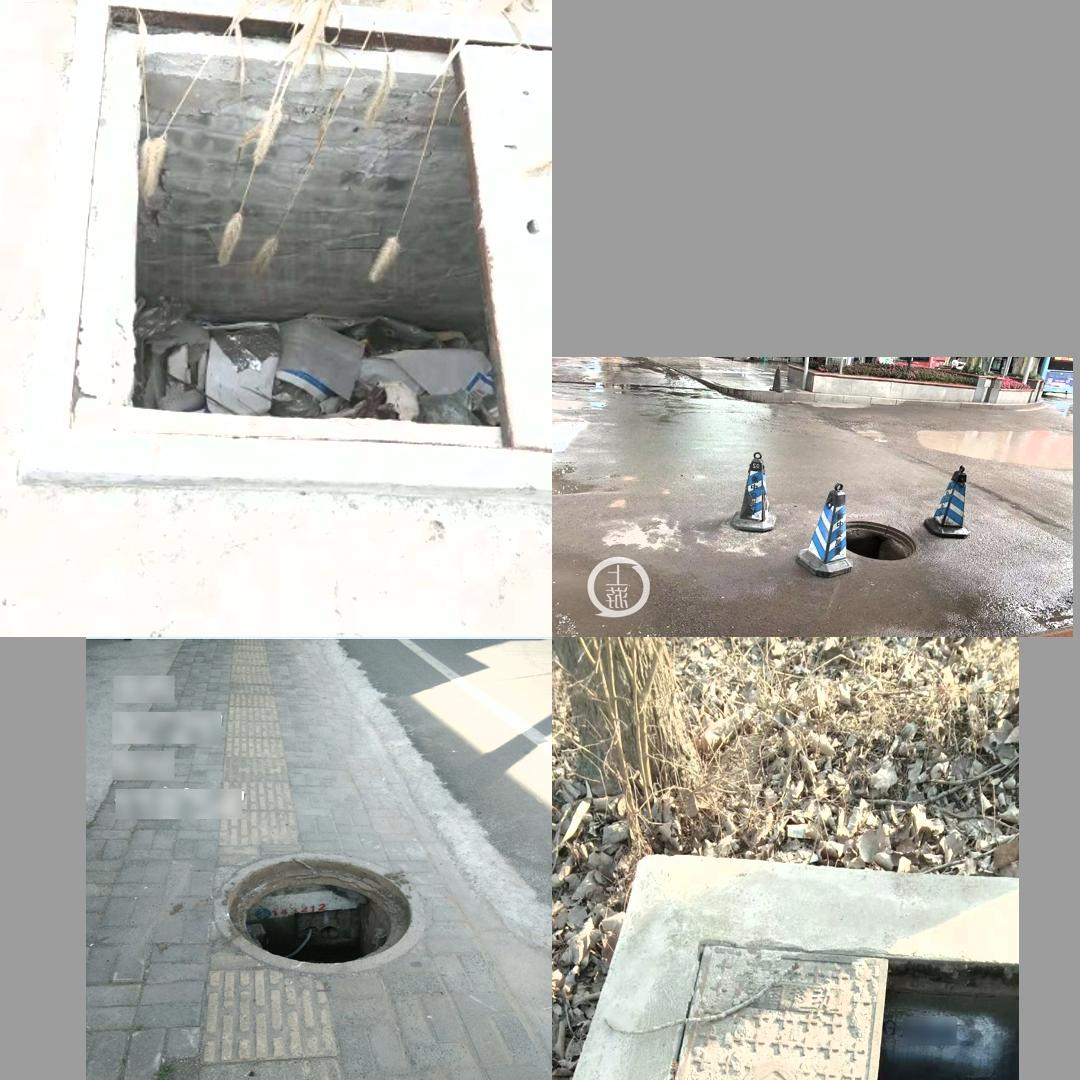lose: (16, 0, 550, 488), (622, 849, 1015, 1080), (213, 852, 426, 976), (828, 508, 921, 566)
